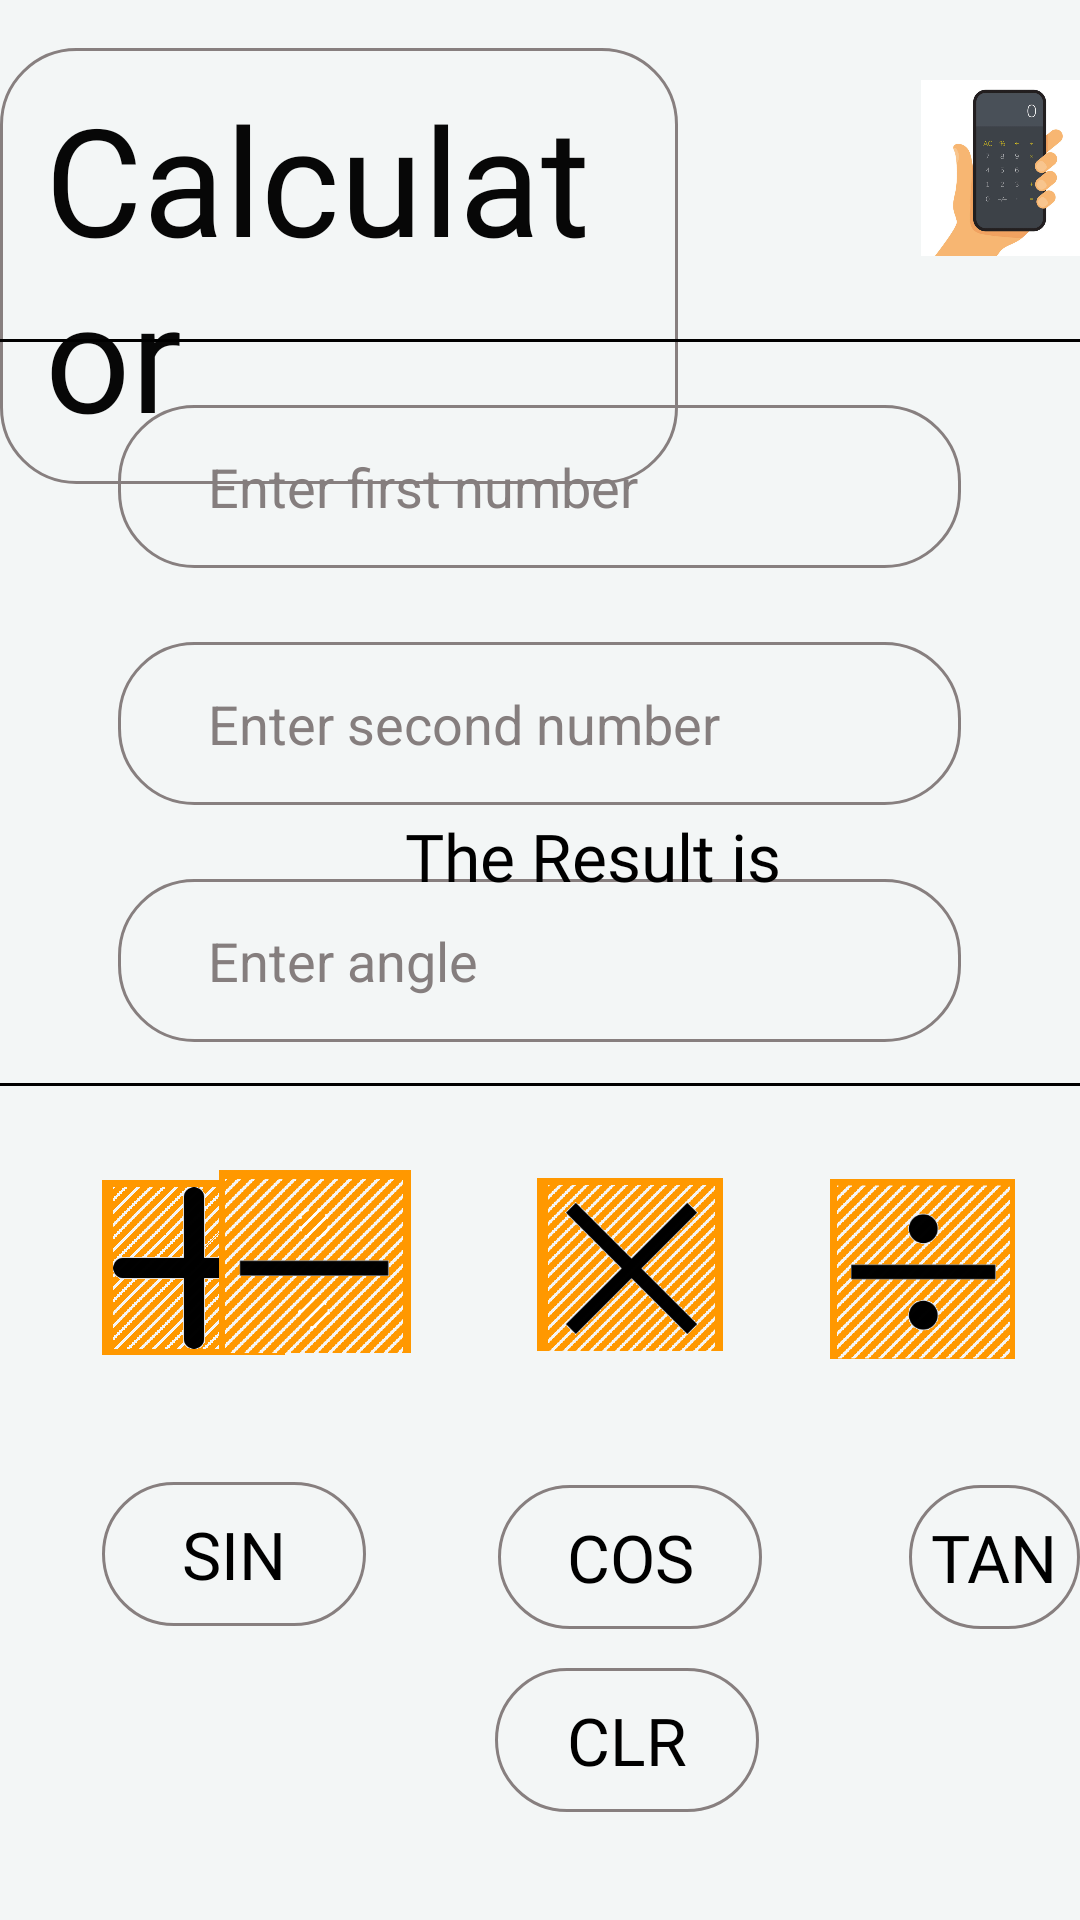

Icon click points for this 1080 × 1920 phone screenshot, format (x=x, y=y):
cal: (x=999, y=173)
